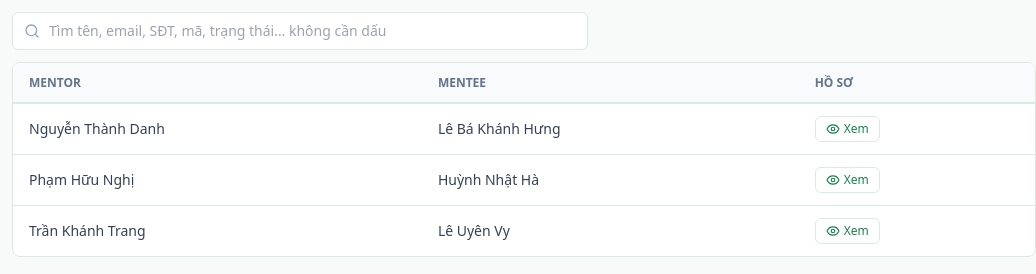
Scenario: 3. bảng dùng chung › nút 'Xem' dùng chung ở mọi dòng không bị tìm
Type "xem" into the search field at (300, 31), box left=12, top=12, right=588, bottom=50
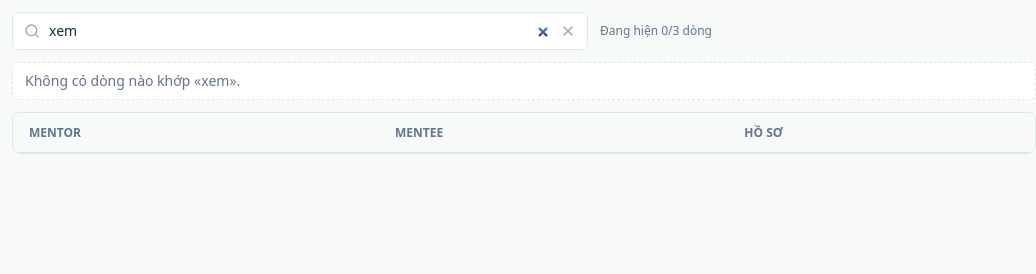
Expected: the message reads "Đang hiện 0/3 dòng", left=600, top=22, right=712, bottom=39
